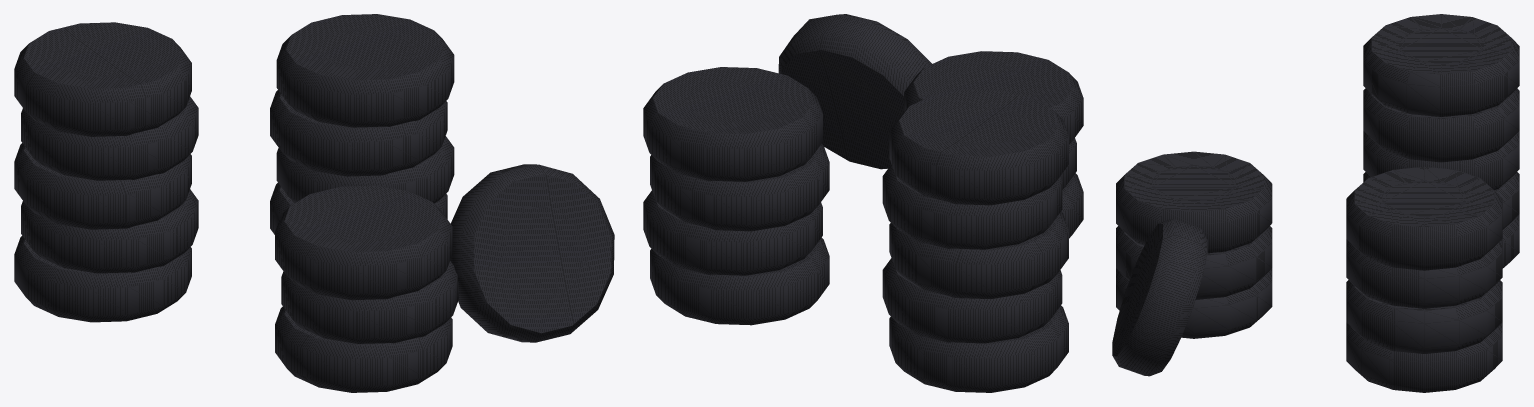
Rendered from p_sm_tyres.glb.
3 renders of one model, left to right at view 1: azimuth 30°, elevation 25°; view 2: azimuth 150°, elevation 25°; view 3: azimuth 270°, elevation 25°, orthographic. The views are drawn at different scales.
Parts seen in each view (by area): view 1: p_sm_tyres_lod0; view 2: p_sm_tyres_lod0; view 3: p_sm_tyres_lod0.
Boxes of the visible parts, left/top/right/bottom form: p_sm_tyres_lod0: left=14, top=14, right=614, bottom=392; p_sm_tyres_lod0: left=643, top=14, right=1083, bottom=392; p_sm_tyres_lod0: left=1112, top=14, right=1519, bottom=392.
Size of what is drawn, in the model's own units: 2.59 by 1.36 by 2.39.
Materials: 1 (1 with a texture image).
